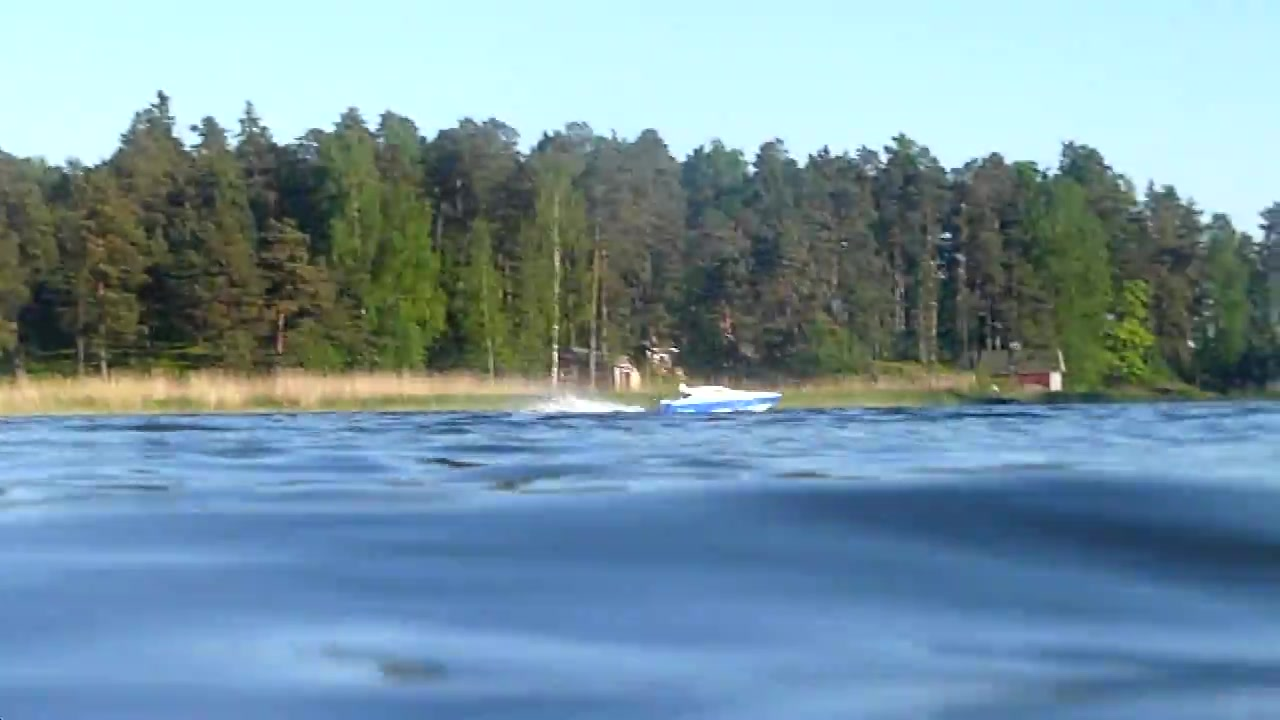boat: (660, 381, 785, 419)
